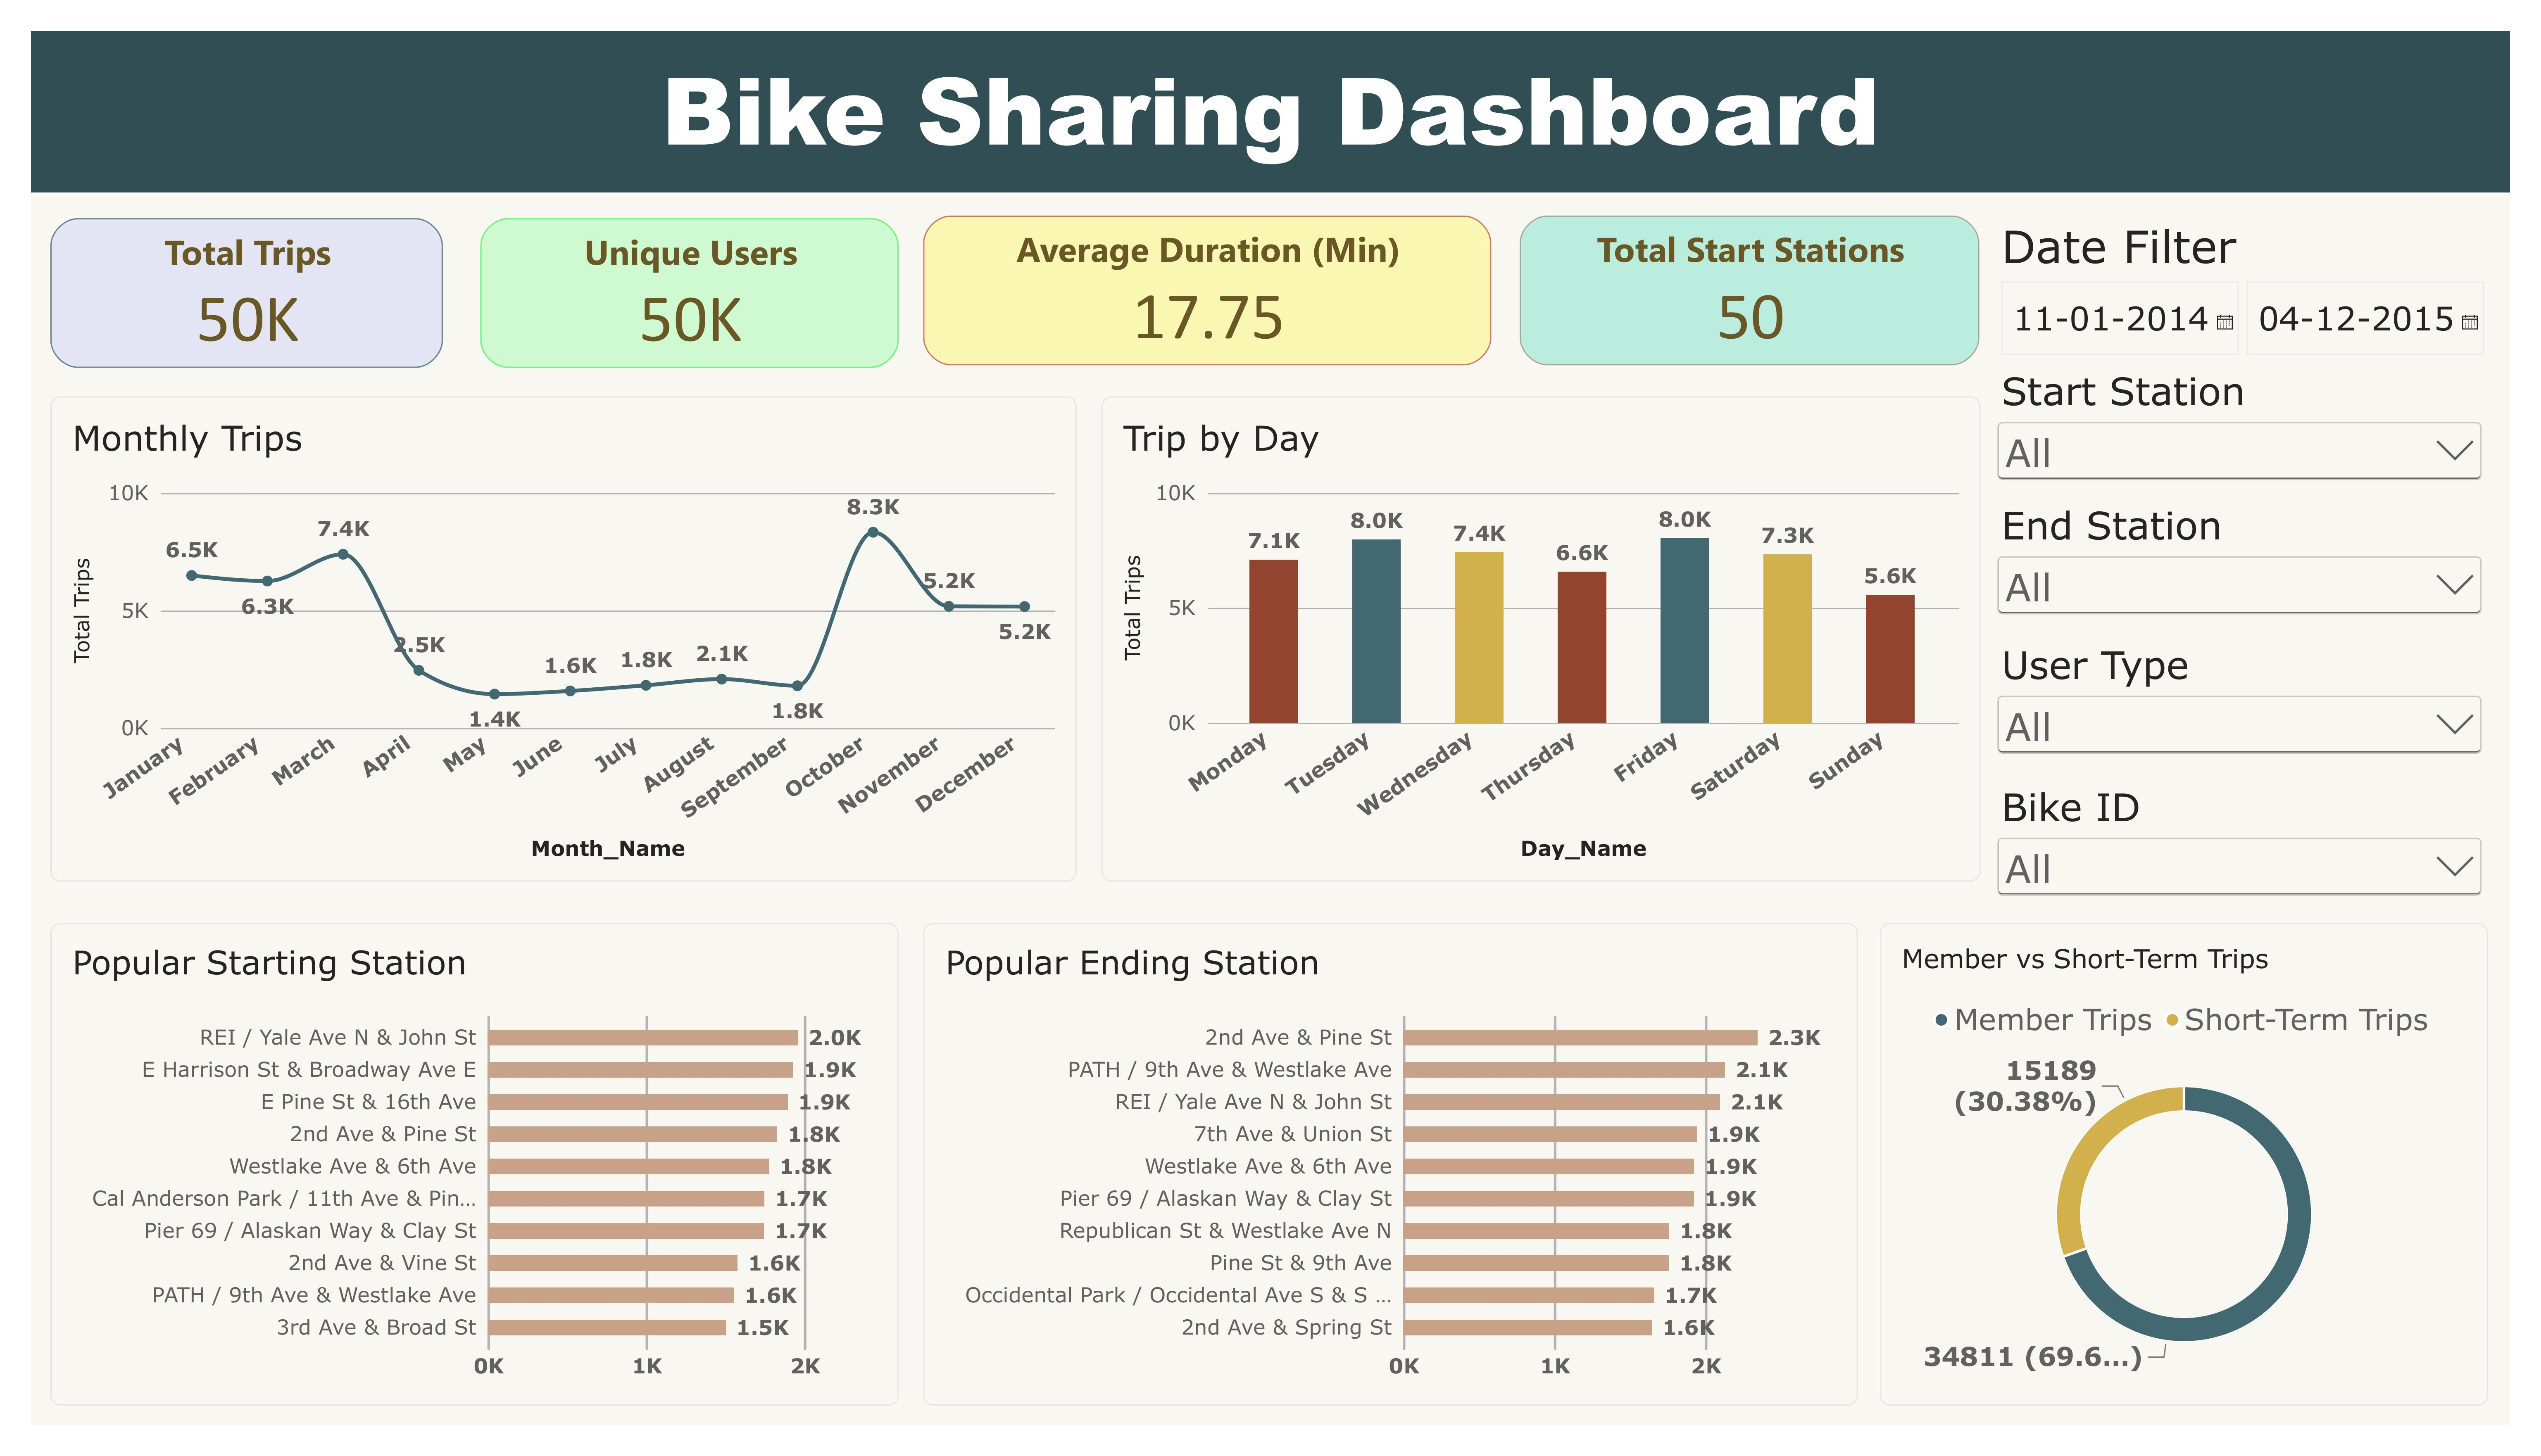

This screenshot's page, from the dashboard's own definition file:
{"tool":"powerbi","page":{"name":"Page 1","canvas":[1920,1080],"ordinal":0},"visuals":[{"type":"textbox","box":[0,0,1920.2,125.3],"z":0},{"type":"cardVisual","fields":{"Data":["trip_dataset2.Total Trips"]},"box":[15.1,144.7,304.6,116.6],"z":1000},{"type":"cardVisual","fields":{"Data":["trip_dataset2.Unique Users"]},"box":[347.8,144.7,324,116.6],"z":2000},{"type":"cardVisual","fields":{"Data":["trip_dataset2.Average Duration (Min)"]},"box":[691.2,142.6,440.6,116.6],"z":3000},{"type":"cardVisual","fields":{"Data":["trip_dataset2.Total Start Stations"]},"box":[1153.4,142.6,356.4,116.6],"z":4000},{"type":"clusteredBarChart","title":"Popular Starting Station","fields":{"Category":["trip_dataset2.from_station_name"],"Y":["CountNonNull(trip_dataset2.from_station_name)"]},"box":[15.1,691.2,656.6,373.7],"z":6000},{"type":"slicer","fields":{"Values":["trip_dataset2.Trip_Date"]},"box":[1518.5,144.7,384.5,229],"z":7000},{"type":"slicer","fields":{"Values":["trip_dataset2.from_station_name"]},"box":[1518.5,261.4,384.5,90.7],"z":8000},{"type":"slicer","fields":{"Values":["trip_dataset2.usertype"]},"box":[1518.5,473,384.5,92.9],"z":9000},{"type":"slicer","fields":{"Values":["trip_dataset2.to_station_name"]},"box":[1518.5,365,384.5,90.7],"z":10000},{"type":"slicer","fields":{"Values":["trip_dataset2.bikeid"]},"box":[1518.5,583.2,384.5,90.7],"z":11000},{"type":"clusteredBarChart","title":"Popular Ending Station","fields":{"Category":["trip_dataset2.to_station_name"],"Y":["CountNonNull(trip_dataset2.to_station_name)"]},"box":[691.2,691.2,723.6,373.7],"z":12000},{"type":"lineChart","title":"Monthly Trips","fields":{"Category":["trip_dataset2.Month_Name"],"Y":["trip_dataset2.Total Trips"]},"box":[15.1,283,794.9,375.8],"z":12001},{"type":"clusteredColumnChart","title":"Trip by Day","fields":{"Category":["trip_dataset2.Day_Name"],"Y":["trip_dataset2.Total Trips"]},"box":[829.4,283,680.4,375.8],"z":12003},{"type":"donutChart","title":"Member vs Short-Term Trips","fields":{"Y":["trip_dataset2.Member Trips","trip_dataset2.Short-Term Trips"]},"box":[1432.1,691.2,470.9,373.7],"z":12004}]}

Visuals, with their boxes on the page's 1920x1080 design canvas (x1, y1, x2, y2). These are canvas units, not pixel positions in the 2541x1456 screenshot, which may show the page scaled, cropped or inside an application window:
textbox: x1=0 y1=0 x2=1920 y2=125
cardVisual - trip_dataset2.Total Trips: x1=15 y1=145 x2=320 y2=261
cardVisual - trip_dataset2.Unique Users: x1=348 y1=145 x2=672 y2=261
cardVisual - trip_dataset2.Average Duration (Min): x1=691 y1=143 x2=1132 y2=259
cardVisual - trip_dataset2.Total Start Stations: x1=1153 y1=143 x2=1510 y2=259
"Popular Starting Station" clusteredBarChart: x1=15 y1=691 x2=672 y2=1065
slicer - trip_dataset2.Trip_Date: x1=1518 y1=145 x2=1903 y2=374
slicer - trip_dataset2.from_station_name: x1=1518 y1=261 x2=1903 y2=352
slicer - trip_dataset2.usertype: x1=1518 y1=473 x2=1903 y2=566
slicer - trip_dataset2.to_station_name: x1=1518 y1=365 x2=1903 y2=456
slicer - trip_dataset2.bikeid: x1=1518 y1=583 x2=1903 y2=674
"Popular Ending Station" clusteredBarChart: x1=691 y1=691 x2=1415 y2=1065
"Monthly Trips" lineChart: x1=15 y1=283 x2=810 y2=659
"Trip by Day" clusteredColumnChart: x1=829 y1=283 x2=1510 y2=659
"Member vs Short-Term Trips" donutChart: x1=1432 y1=691 x2=1903 y2=1065
